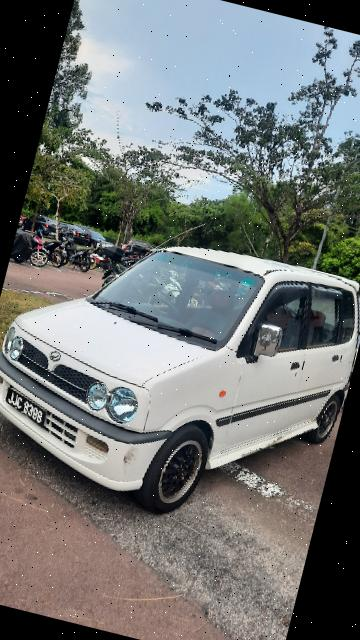License_Plate: (1, 382, 54, 428)
car: (1, 199, 360, 551)
